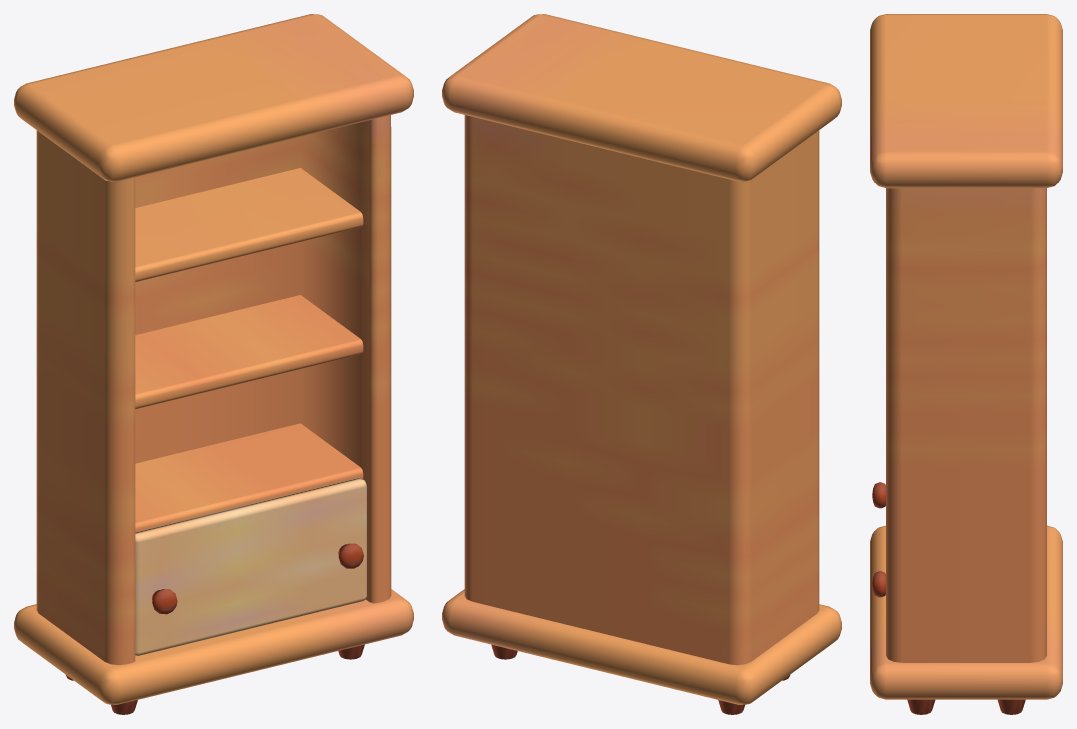
The model's file is closet-01.glb.
3 renders of one model, left to right at view 1: azimuth 30°, elevation 25°; view 2: azimuth 150°, elevation 25°; view 3: azimuth 270°, elevation 25°, orthographic. The views are drawn at different scales.
Visible parts, largest first — view 1: Closet_01, Closet_01_Door; view 2: Closet_01; view 3: Closet_01, Closet_01_Door.
Part boxes in pixels (x1=…): Closet_01: x1=14, y1=14, x2=413, y2=714; Closet_01_Door: x1=135, y1=477, x2=366, y2=655; Closet_01: x1=442, y1=14, x2=841, y2=714; Closet_01: x1=870, y1=14, x2=1062, y2=714; Closet_01_Door: x1=872, y1=482, x2=885, y2=597.
Bounding box in the file's own units: 0.88 × 1.58 × 0.48.
Materials: 1 (1 with a texture image).
